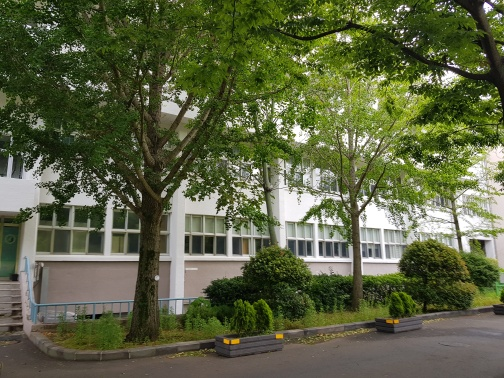Main Building of University: (5, 92, 495, 304)
